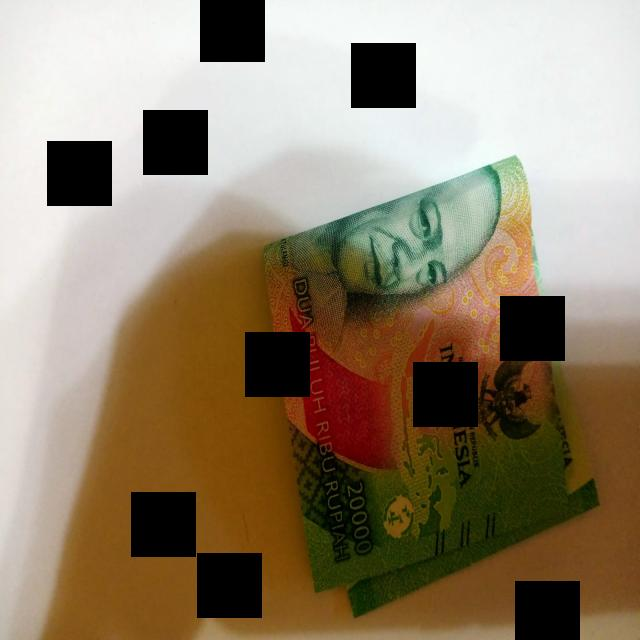dua puluh ribu rupiah: (264, 157, 598, 617)
